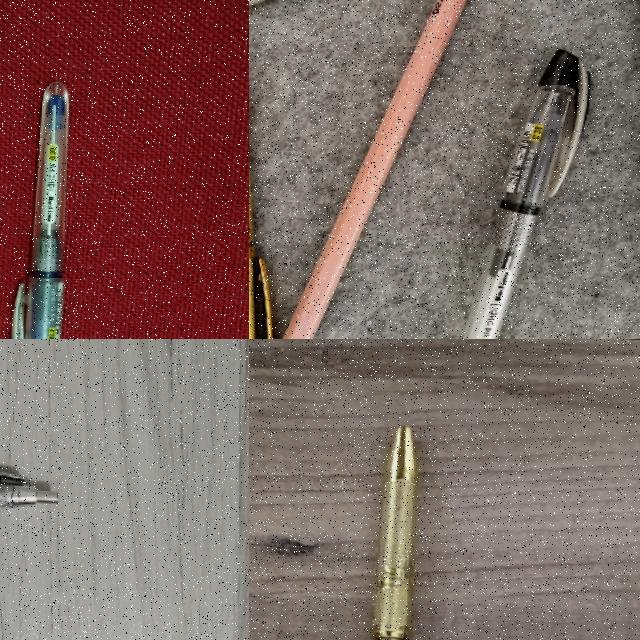pen: (444, 48, 591, 339), (12, 82, 69, 339)
pencil: (273, 0, 493, 339)
signature pen: (249, 43, 284, 339), (371, 427, 416, 639), (0, 472, 56, 507)
